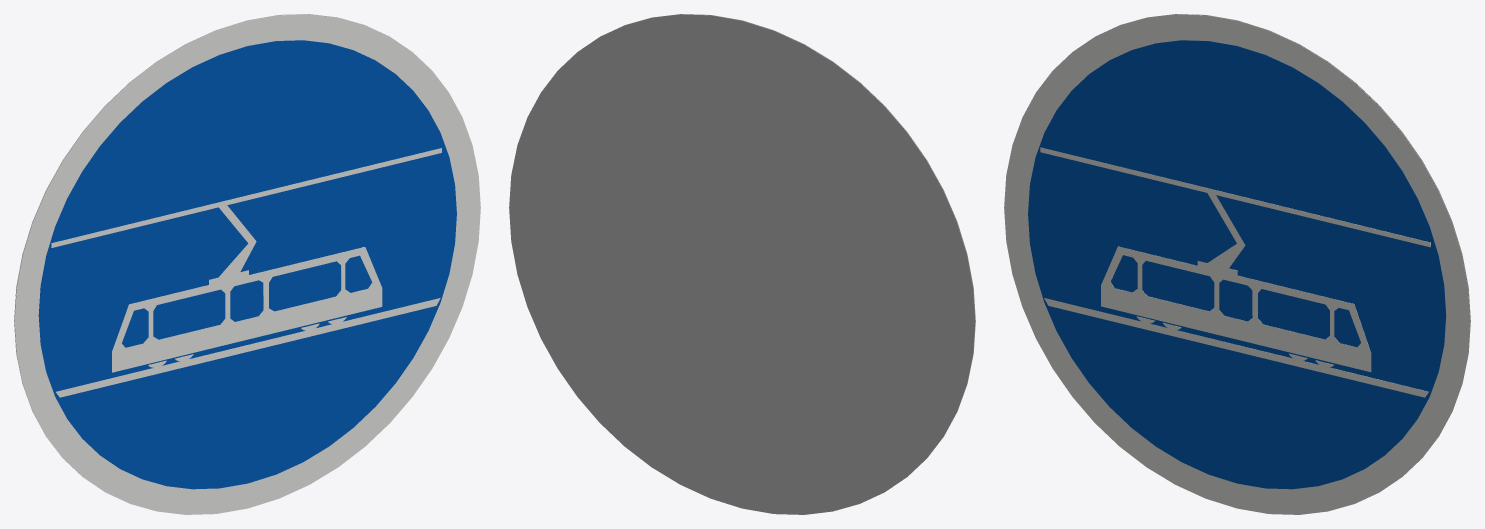
The picture shows the model from 3 angles, left to right: view 1: azimuth 30°, elevation 25°; view 2: azimuth 150°, elevation 25°; view 3: azimuth 330°, elevation 25°; orthographic projection.
Parts seen in each view (by area): view 1: B27b_p01, B27b_p00, B27b_p02, B27b_p03, B27b_p04, B27b_dos; view 2: B27b_dos, B27b_p00; view 3: B27b_p01, B27b_p00, B27b_p02, B27b_p03, B27b_p04, B27b_dos.
Part boxes in pixels (<box>): B27b_p01: <box>38,40,456,489</box>; B27b_p00: <box>14,14,480,514</box>; B27b_p02: <box>112,247,382,372</box>; B27b_p03: <box>51,148,441,286</box>; B27b_p04: <box>56,298,440,397</box>; B27b_dos: <box>14,14,385,473</box>; B27b_dos: <box>509,14,975,514</box>; B27b_p00: <box>604,14,975,473</box>; B27b_p01: <box>1028,40,1446,489</box>; B27b_p00: <box>1004,14,1470,514</box>; B27b_p02: <box>1101,246,1371,372</box>; B27b_p03: <box>1040,147,1430,276</box>; B27b_p04: <box>1044,298,1428,397</box>; B27b_dos: <box>1099,14,1470,473</box>.
Bounding box in the file's own units: 0.85 × 0.8498 × 0.0051.
